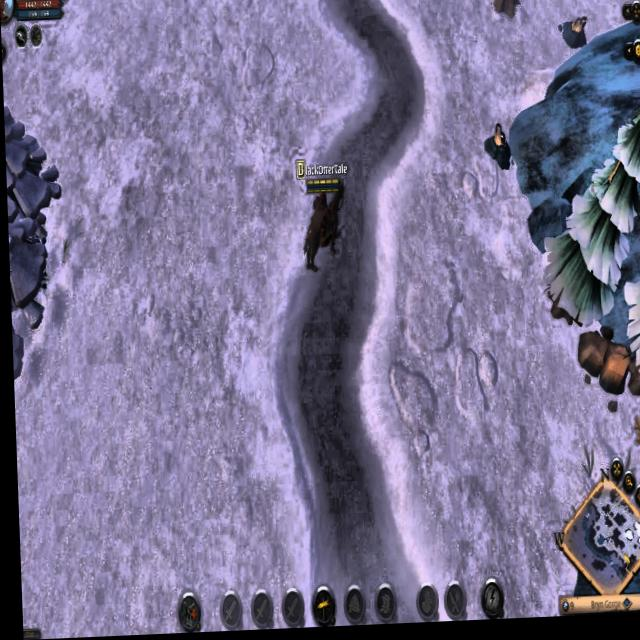copperore: (482, 125, 515, 178), (558, 17, 590, 58)
limestone: (573, 328, 630, 407)
